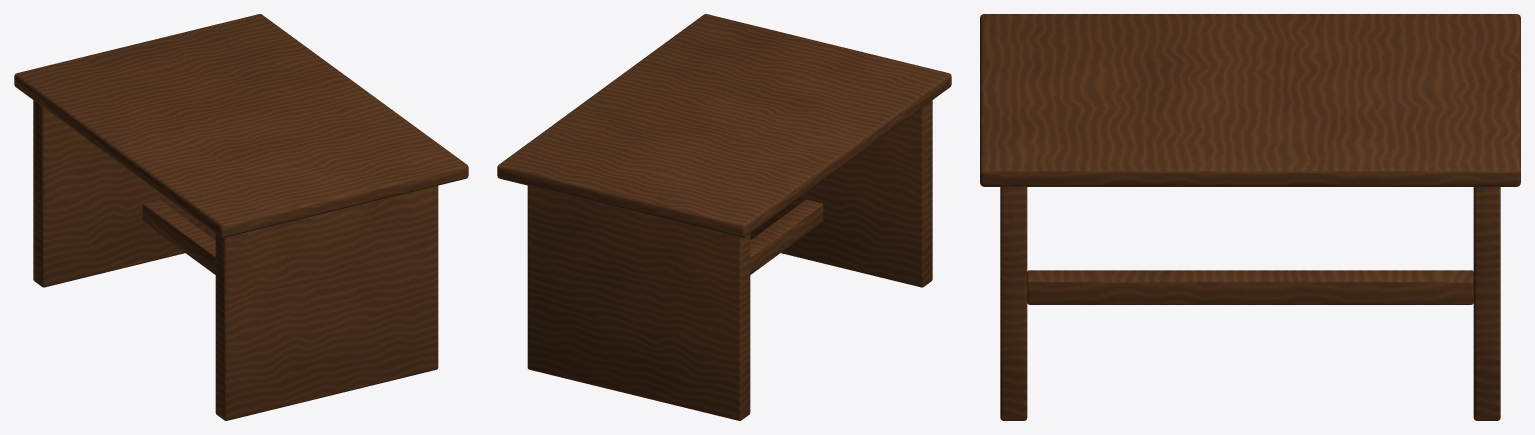
Rendered from reel-desk.glb.
3 renders of one model, left to right at view 1: azimuth 30°, elevation 25°; view 2: azimuth 150°, elevation 25°; view 3: azimuth 270°, elevation 25°, orthographic. The views are drawn at different scales.
Parts seen in each view (by area): view 1: top, end.001, end, stretcher; view 2: top, end, end.001, stretcher; view 3: top, stretcher, end, end.001.
Boxes of the visible parts, x1,y1,x2,y2 form: top: (14, 14, 468, 237); end.001: (215, 185, 438, 420); end: (33, 100, 215, 287); stretcher: (142, 199, 215, 274); top: (497, 14, 951, 237); end: (527, 185, 750, 420); end.001: (750, 100, 932, 287); stretcher: (750, 199, 823, 274); top: (980, 14, 1520, 186); stretcher: (1027, 270, 1473, 304); end: (1473, 187, 1500, 420); end.001: (1000, 187, 1027, 420).
Size of the model in its own units: 1.1 by 0.87 by 1.6.
1 material, 1 textured.
